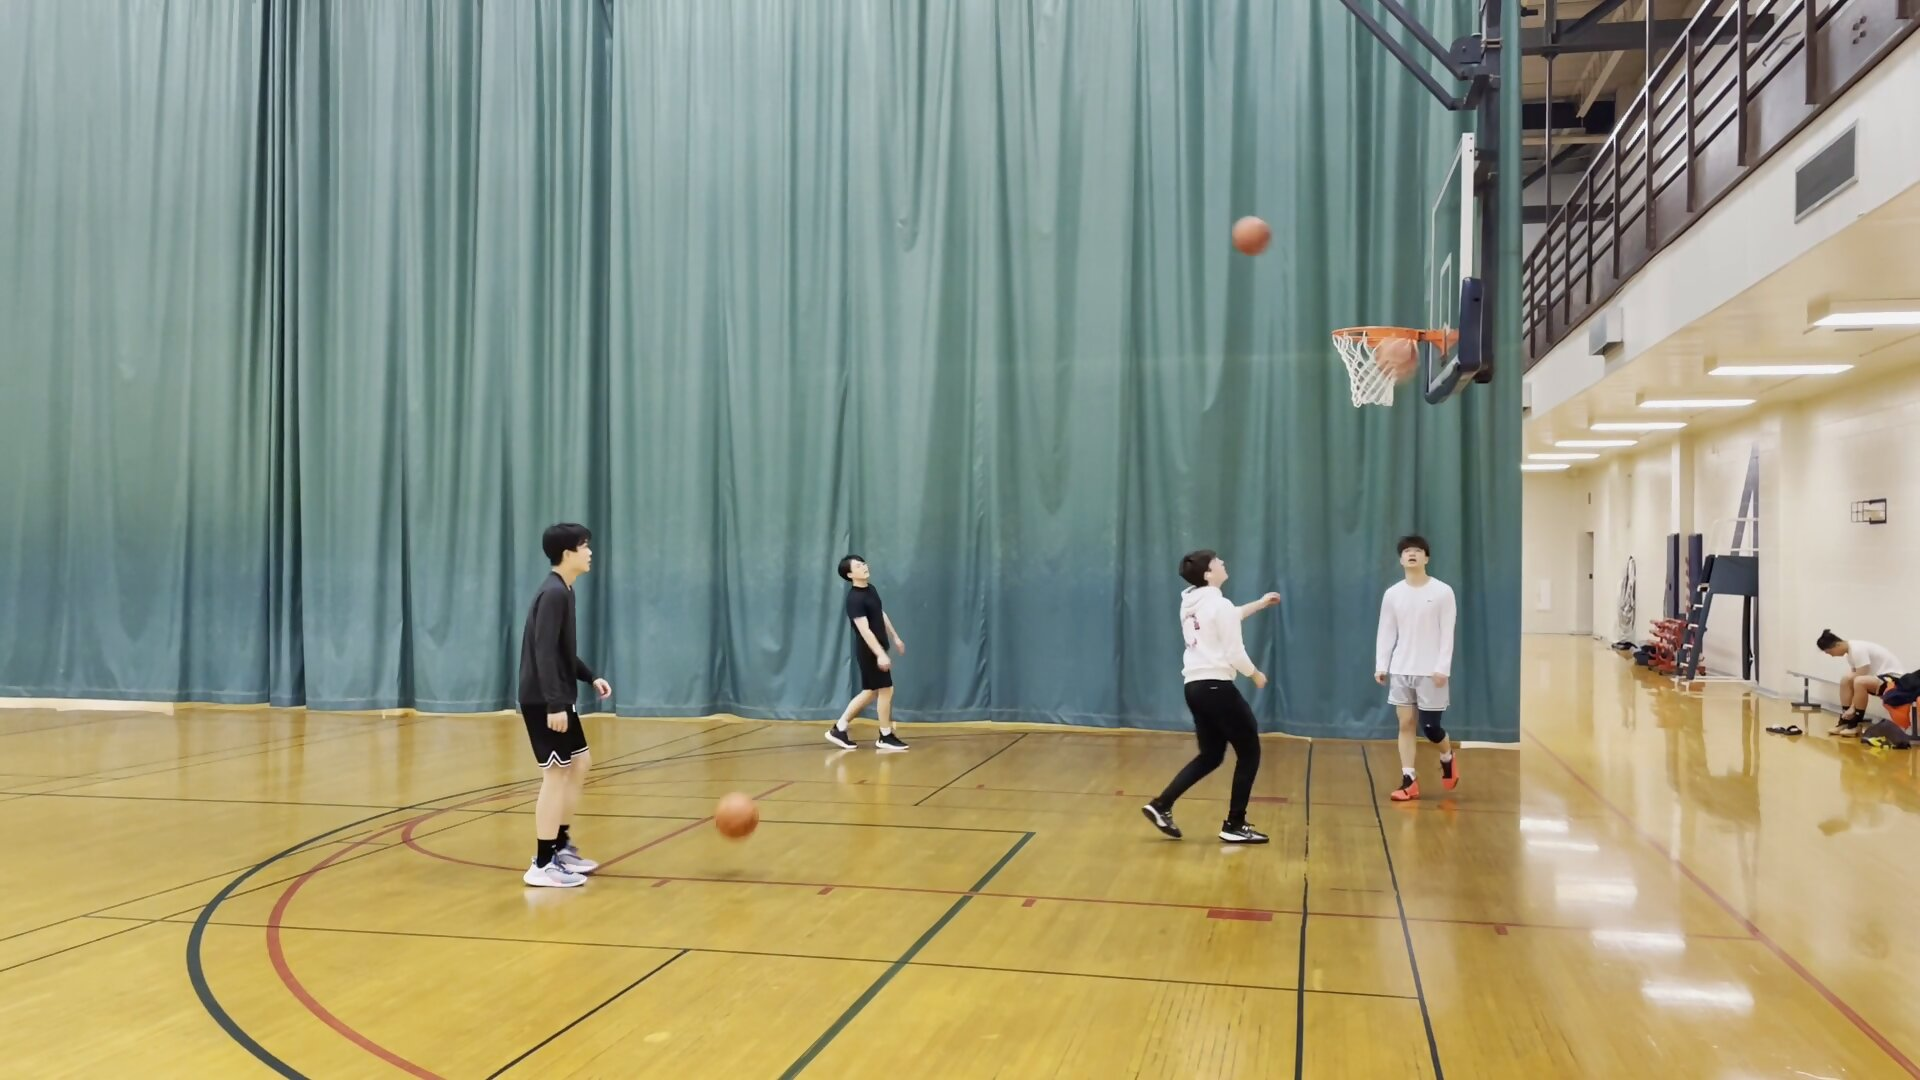ball: (714, 789, 759, 839), (1374, 338, 1420, 379), (1230, 212, 1270, 258)
net: (1341, 377, 1406, 412)
player: (1143, 544, 1289, 848), (512, 520, 616, 895), (1372, 530, 1472, 805), (826, 549, 916, 758), (1812, 627, 1906, 744)
rim: (1320, 322, 1426, 349)
